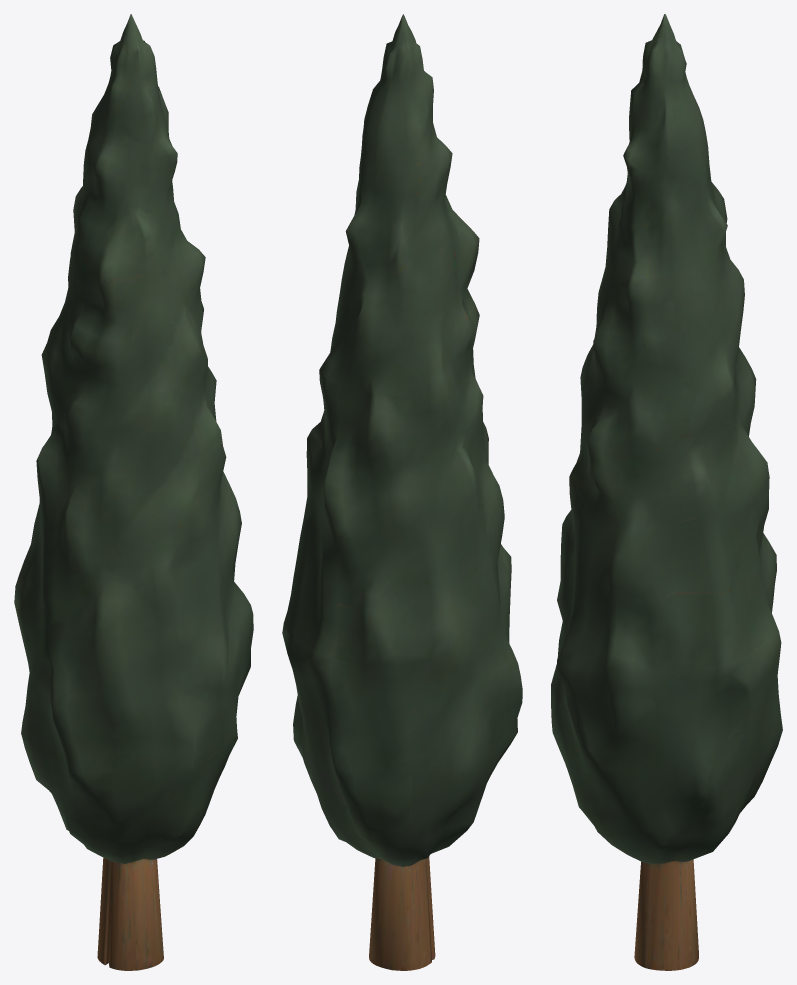
File: tree-cypress.glb
3 renders of one model, left to right at view 1: azimuth 30°, elevation 25°; view 2: azimuth 150°, elevation 25°; view 3: azimuth 270°, elevation 25°, orthographic.
Bounding box in the file's own units: 0.2084 × 0.9507 × 0.2119.
Materials: 1 (1 with a texture image).
